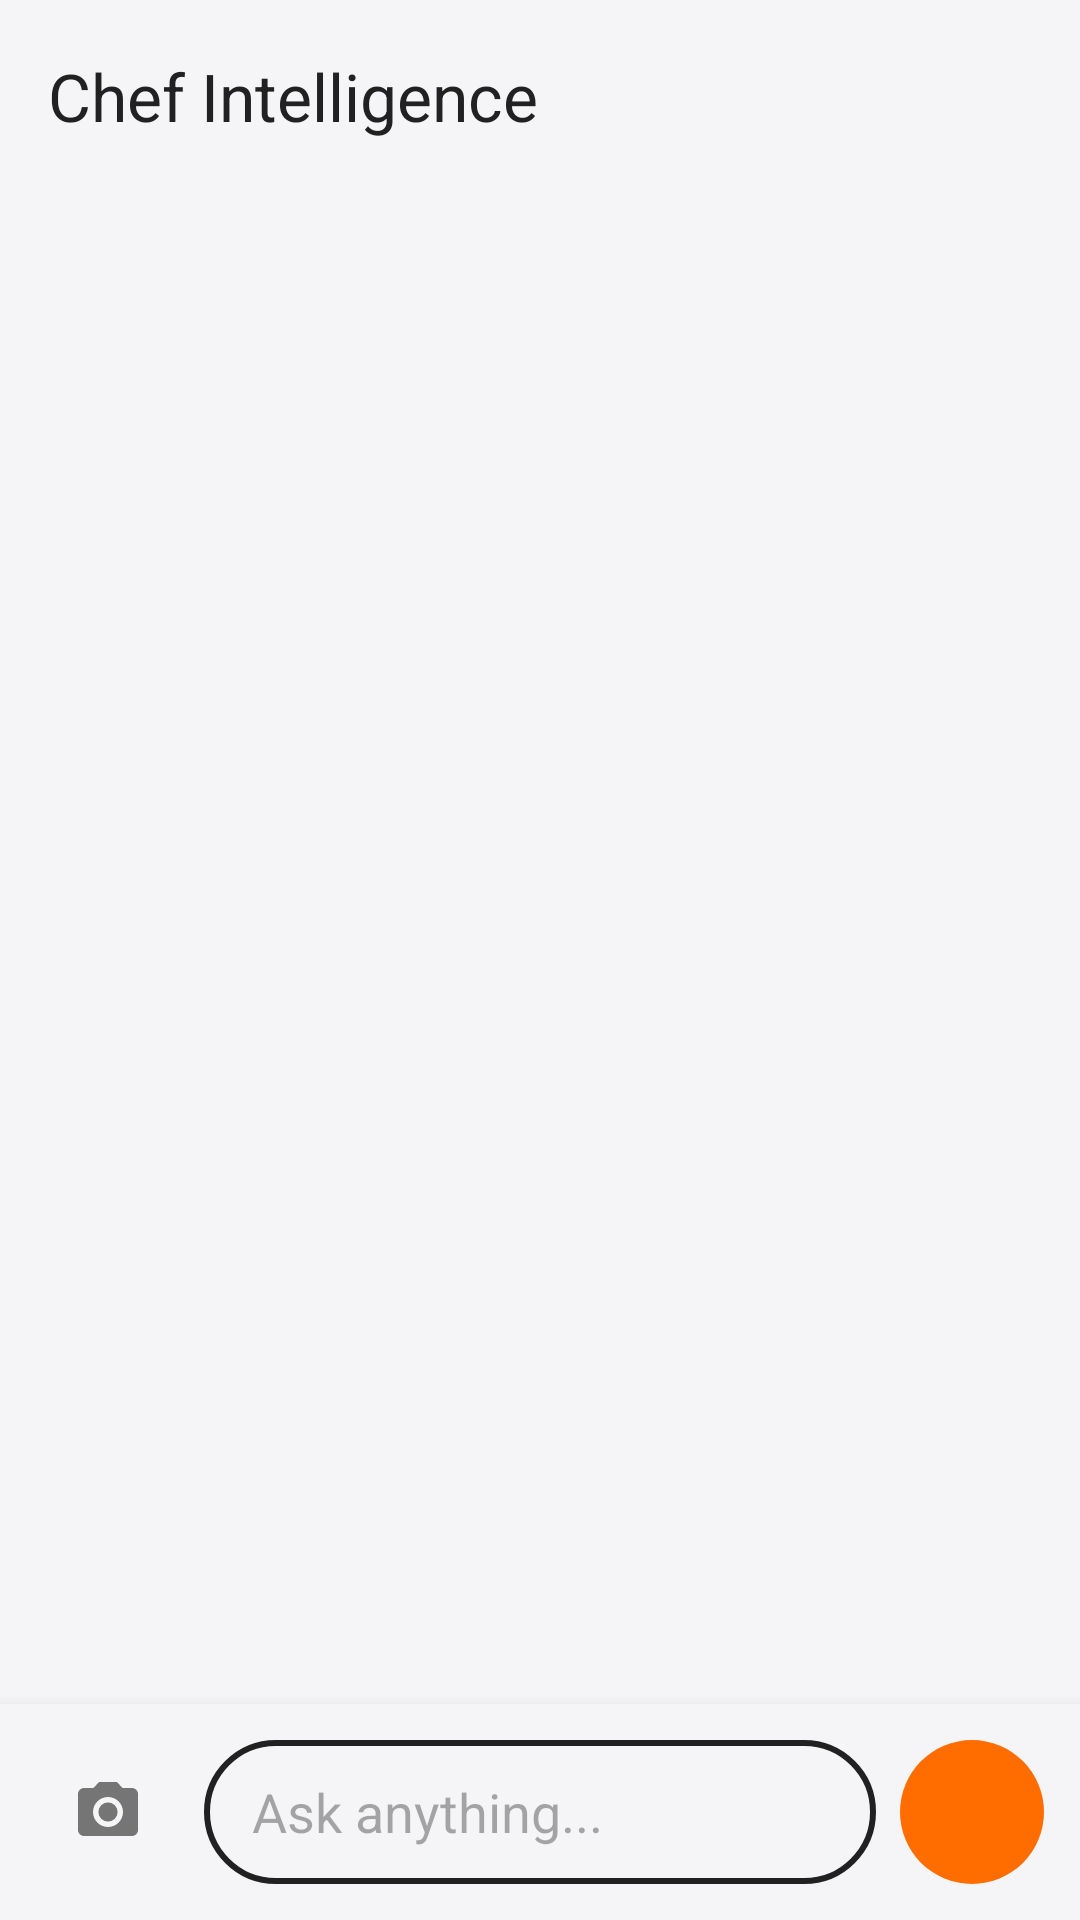

Icon bounding boxes for this 1080x1920 phone screenshot, format (x1, y1, x2, y2):
camera: (78, 1782, 138, 1836)
